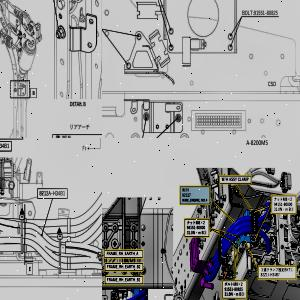PartNumber: (254, 9, 278, 16), (39, 190, 65, 196), (274, 201, 294, 207), (224, 286, 243, 292), (186, 225, 206, 230), (260, 272, 280, 277), (0, 142, 9, 149)
